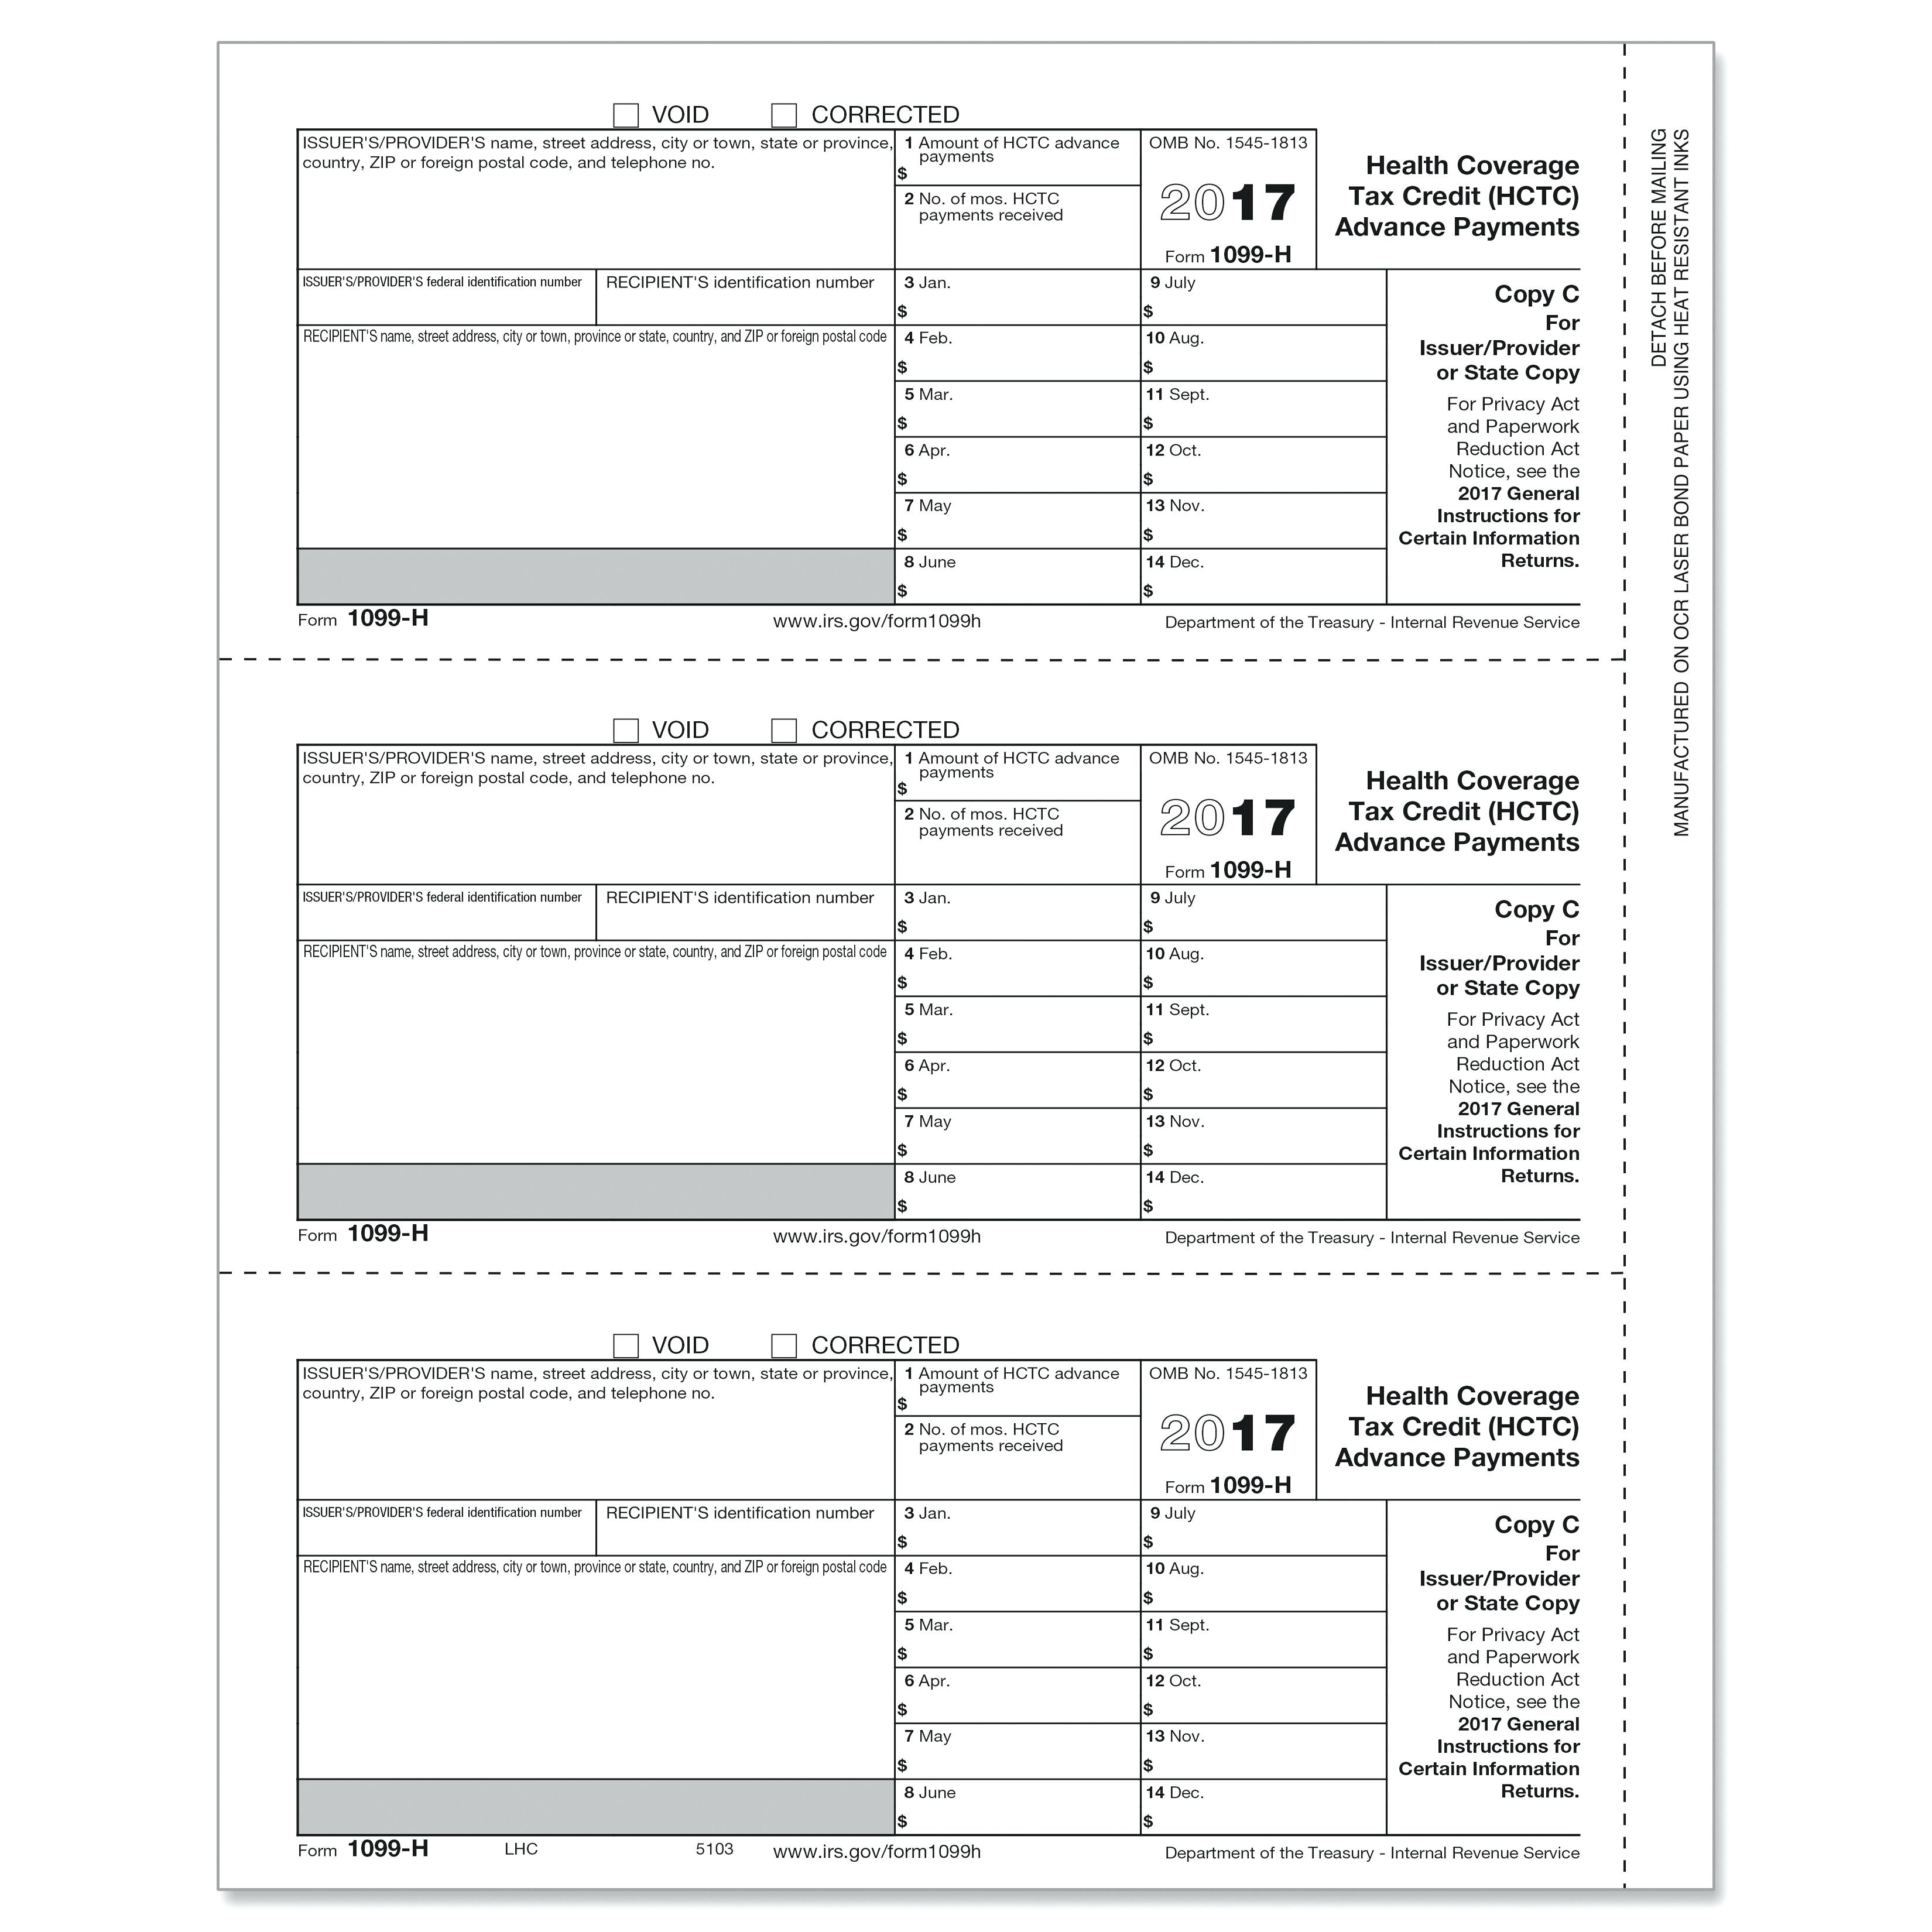checkbox: (609, 709, 644, 752), (607, 97, 642, 138), (764, 96, 800, 136), (766, 711, 801, 752), (607, 1323, 642, 1364), (766, 1327, 801, 1368)
textbox: (292, 318, 899, 559), (294, 934, 901, 1175), (292, 1546, 899, 1787), (290, 1352, 901, 1511), (294, 122, 902, 276), (292, 738, 901, 892), (890, 1410, 1146, 1504), (892, 798, 1148, 890), (290, 260, 607, 334), (892, 179, 1146, 271), (589, 260, 904, 334), (292, 1491, 603, 1560), (591, 1490, 902, 1559), (888, 1100, 1150, 1169), (1132, 1102, 1394, 1171), (885, 1352, 1146, 1421), (888, 1495, 1150, 1564), (886, 1606, 1148, 1675), (890, 1661, 1152, 1730), (888, 1714, 1150, 1783), (1132, 1716, 1394, 1785), (892, 120, 1146, 191), (892, 315, 1146, 386), (890, 372, 1145, 442), (1139, 373, 1394, 444), (1139, 936, 1394, 1007), (890, 934, 1145, 1005), (886, 989, 1148, 1056), (1136, 996, 1398, 1063), (1136, 1046, 1398, 1113), (886, 1046, 1148, 1113), (1134, 1154, 1396, 1221), (888, 1157, 1150, 1224), (1129, 1493, 1391, 1560), (1138, 1550, 1399, 1617), (888, 1550, 1150, 1617), (1136, 1608, 1398, 1675), (1136, 1660, 1398, 1727), (1138, 1775, 1399, 1842), (890, 1776, 1152, 1844), (888, 1775, 1150, 1842), (892, 260, 1146, 329), (895, 430, 1150, 499), (1136, 262, 1391, 331), (1138, 317, 1392, 386), (888, 734, 1143, 803), (1138, 879, 1392, 948), (1134, 433, 1392, 501), (1134, 488, 1392, 556), (1136, 540, 1394, 607), (890, 541, 1148, 609), (890, 488, 1148, 556), (892, 879, 1150, 947)
